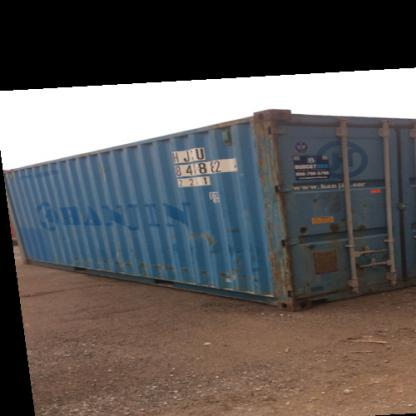Damage: (54, 248, 253, 300), (248, 108, 284, 180), (264, 235, 296, 300), (262, 177, 284, 235), (184, 229, 218, 252), (351, 221, 377, 236), (294, 223, 315, 241), (326, 217, 339, 245), (303, 238, 322, 252)
